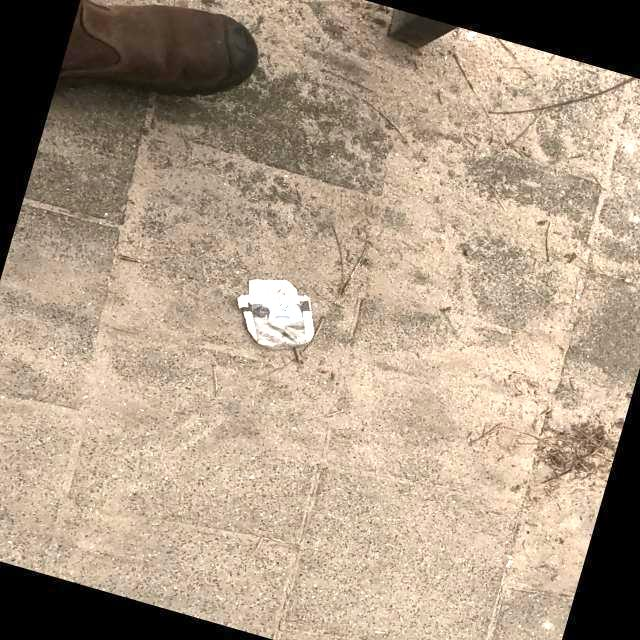Paper: (236, 278, 314, 350)
